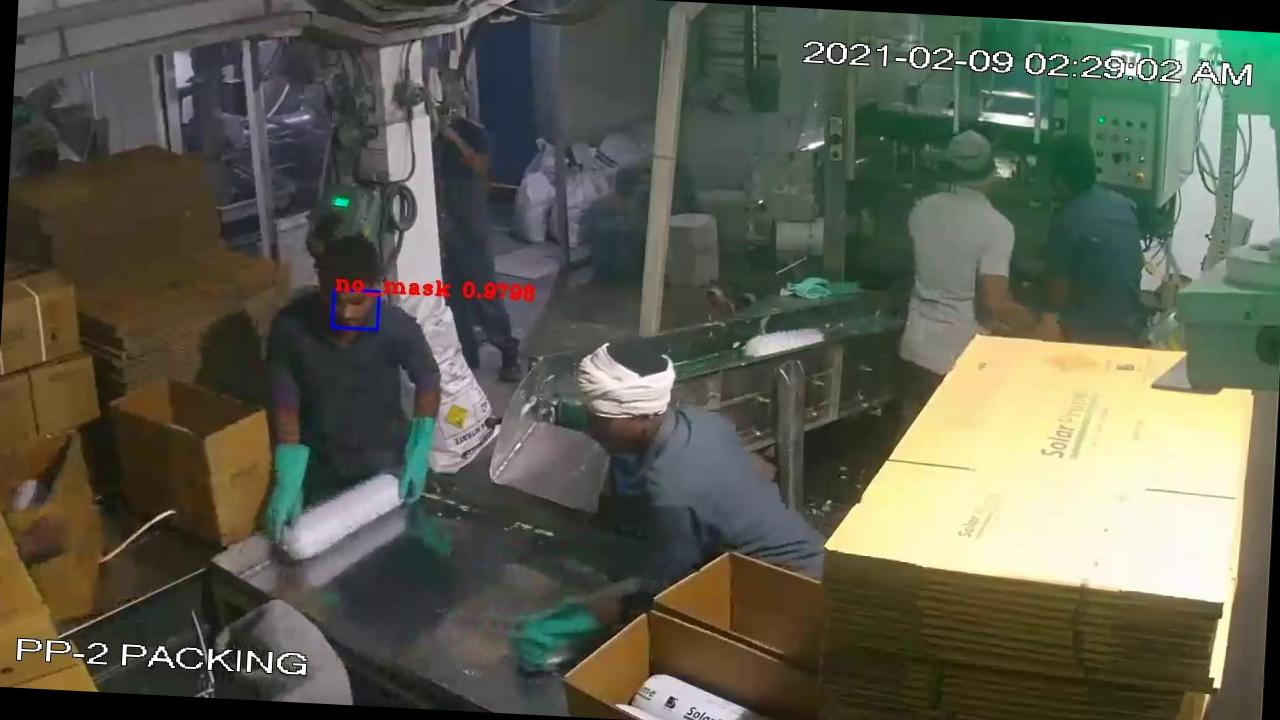Gloves: (224, 413, 324, 548), (492, 586, 631, 683), (386, 395, 438, 516)
No-gloves: (6, 492, 103, 575), (412, 105, 491, 181), (980, 266, 1052, 334)
